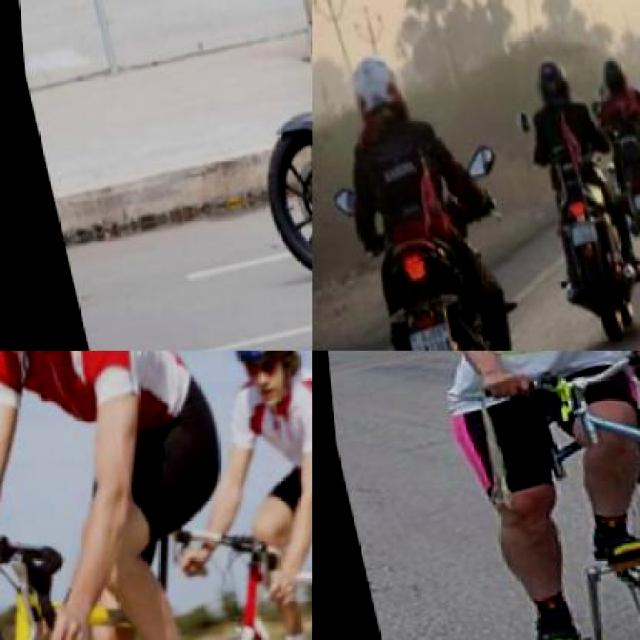With Helmet: (333, 44, 413, 142), (518, 45, 572, 124), (218, 351, 297, 386), (586, 48, 629, 110)
